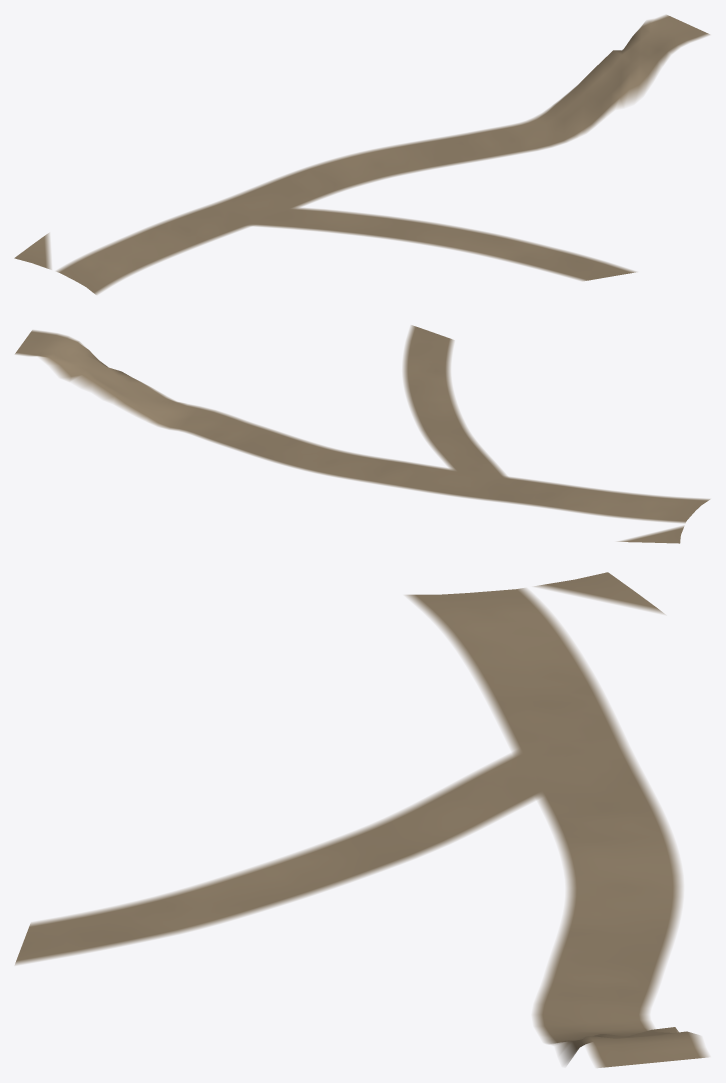
The model's file is paths_islet.glb.
3 views of the same model, one above another, from view 1: azimuth 30°, elevation 25°; view 2: azimuth 150°, elevation 25°; view 3: azimuth 270°, elevation 25° (orthographic). The views are drawn at different scales.
Parts seen in each view (by area): view 1: path_to_islet, path_rim_walk, path_to_grove; view 2: path_to_islet, path_rim_walk, path_to_grove; view 3: path_to_islet, path_rim_walk, path_to_grove.
Boxes of the visible parts, <box> form: path_to_islet: <box>56,15,709,294</box>; path_rim_walk: <box>230,204,636,280</box>; path_to_grove: <box>14,233,51,269</box>; path_to_islet: <box>15,330,710,523</box>; path_rim_walk: <box>403,325,513,489</box>; path_to_grove: <box>617,525,684,543</box>; path_to_islet: <box>405,588,709,1067</box>; path_rim_walk: <box>15,740,601,965</box>; path_to_grove: <box>534,572,664,614</box>.
Bounding box in the file's own units: 16.18 × 1.35 × 8.01.
